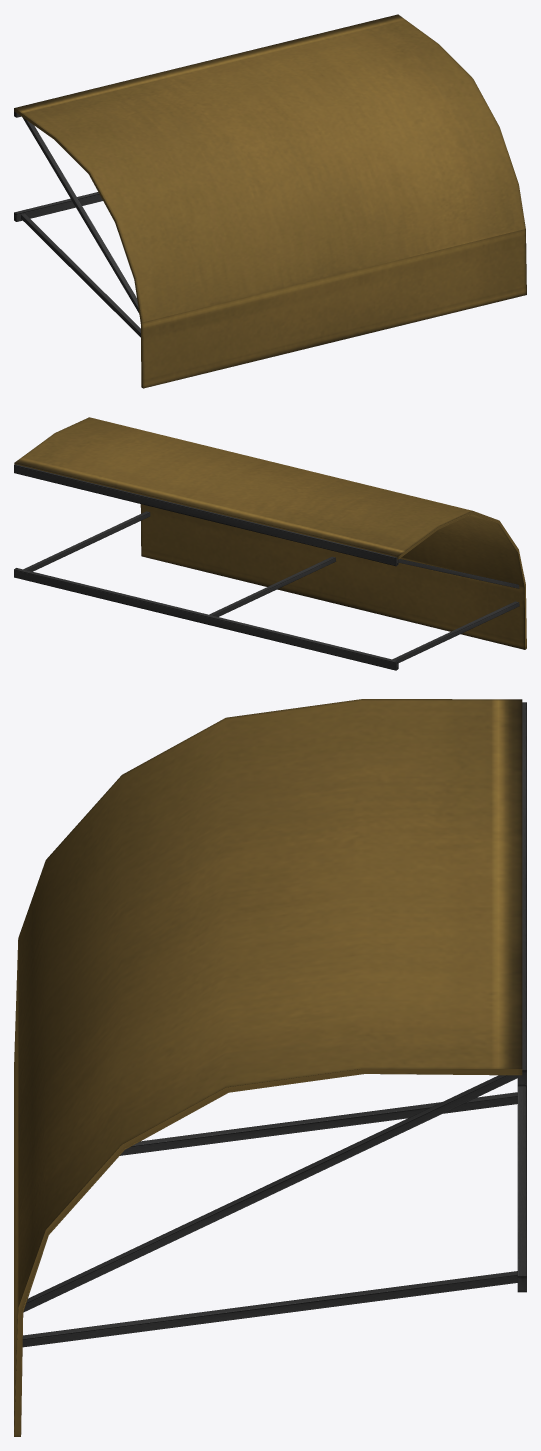
The model's file is ds_canopy_1_B.FBX.
3 views of the same model, one above another, from view 1: azimuth 30°, elevation 25°; view 2: azimuth 150°, elevation 25°; view 3: azimuth 270°, elevation 25° (orthographic). The views are drawn at different scales.
Visible parts, largest first — view 1: ds_canopy_1_B; view 2: ds_canopy_1_B; view 3: ds_canopy_1_B.
Part boxes in pixels (bbox=[...]): ds_canopy_1_B: bbox=[14, 14, 526, 388]; ds_canopy_1_B: bbox=[14, 417, 526, 670]; ds_canopy_1_B: bbox=[14, 699, 526, 1436].
Size of the model in its own units: 10.08 by 5.91 by 4.68.
